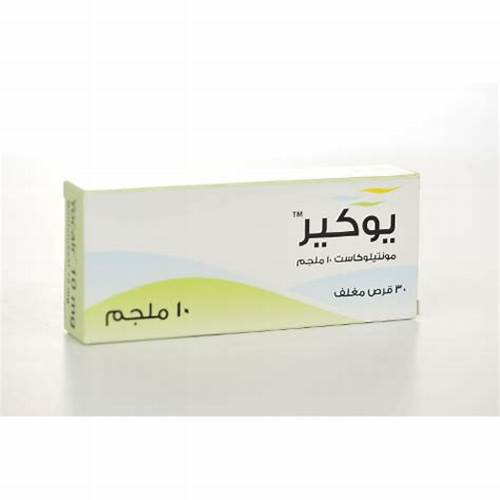Medicine: (59, 163, 431, 359)
